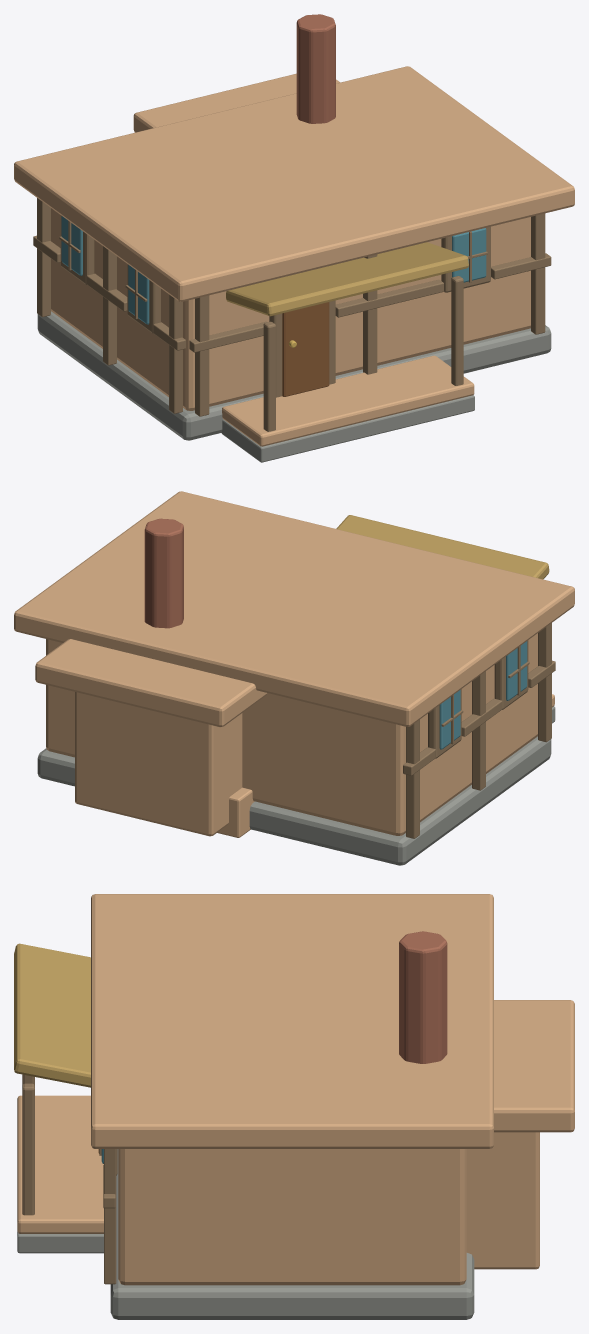
Rendered from arid-farmstead-3.glb.
3 views of the same model, one above another, from view 1: azimuth 30°, elevation 25°; view 2: azimuth 150°, elevation 25°; view 3: azimuth 270°, elevation 25° (orthographic). The views are drawn at different scales.
Parts seen in each view (by area): view 1: Adobe cream, Adobe wood, Palm beams, Foundation stone, Golden thatch, Chimney brick, Door oak, Blue glass; view 2: Adobe cream, Adobe wood, Adobe fieldstone, Foundation stone, Palm beams, Chimney brick, Golden thatch, Blue glass; view 3: Adobe cream, Adobe wood, Foundation stone, Golden thatch, Adobe fieldstone, Chimney brick, Palm beams.
Part boxes in pixels (<box>): Adobe cream: <box>14,66,574,301</box>; Adobe wood: <box>51,208,530,446</box>; Palm beams: <box>33,198,551,431</box>; Foundation stone: <box>37,311,551,462</box>; Golden thatch: <box>226,242,468,316</box>; Chimney brick: <box>296,14,335,123</box>; Door oak: <box>282,302,329,396</box>; Blue glass: <box>61,216,486,324</box>; Adobe cream: <box>14,491,574,727</box>; Adobe wood: <box>46,633,554,837</box>; Adobe fieldstone: <box>75,692,242,836</box>; Foundation stone: <box>37,706,555,865</box>; Palm beams: <box>403,623,555,838</box>; Chimney brick: <box>144,518,183,628</box>; Golden thatch: <box>336,515,549,579</box>; Blue glass: <box>439,641,527,749</box>; Adobe cream: <box>91,894,574,1148</box>; Adobe wood: <box>17,1095,466,1285</box>; Foundation stone: <box>17,1149,474,1319</box>; Golden thatch: <box>14,943,90,1087</box>; Adobe fieldstone: <box>466,1132,539,1269</box>; Chimney brick: <box>399,931,447,1063</box>; Palm beams: <box>22,1074,117,1284</box>.
Size of the model in its own units: 4.44 by 2.83 by 4.51.
